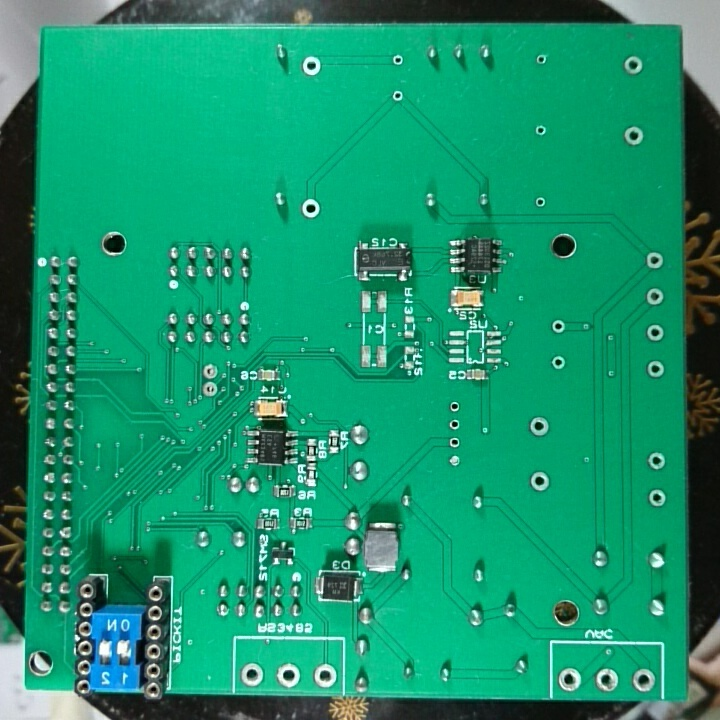F: (591, 665, 622, 695), (555, 665, 585, 695), (629, 665, 658, 696), (238, 660, 267, 690), (274, 660, 303, 689), (309, 661, 338, 689), (525, 413, 553, 440), (621, 51, 645, 82), (528, 468, 553, 496), (299, 196, 324, 223), (643, 356, 668, 382), (299, 54, 324, 79), (642, 249, 668, 273), (643, 285, 668, 309), (645, 487, 669, 512), (622, 123, 645, 149), (645, 448, 668, 472), (643, 321, 666, 343), (549, 352, 569, 373), (549, 316, 568, 336), (201, 380, 220, 398), (202, 361, 219, 381), (532, 121, 550, 139), (389, 52, 408, 69), (446, 452, 462, 471), (390, 87, 406, 105), (532, 194, 548, 211), (447, 434, 462, 451), (533, 52, 549, 67), (447, 399, 462, 415), (447, 417, 462, 432)
